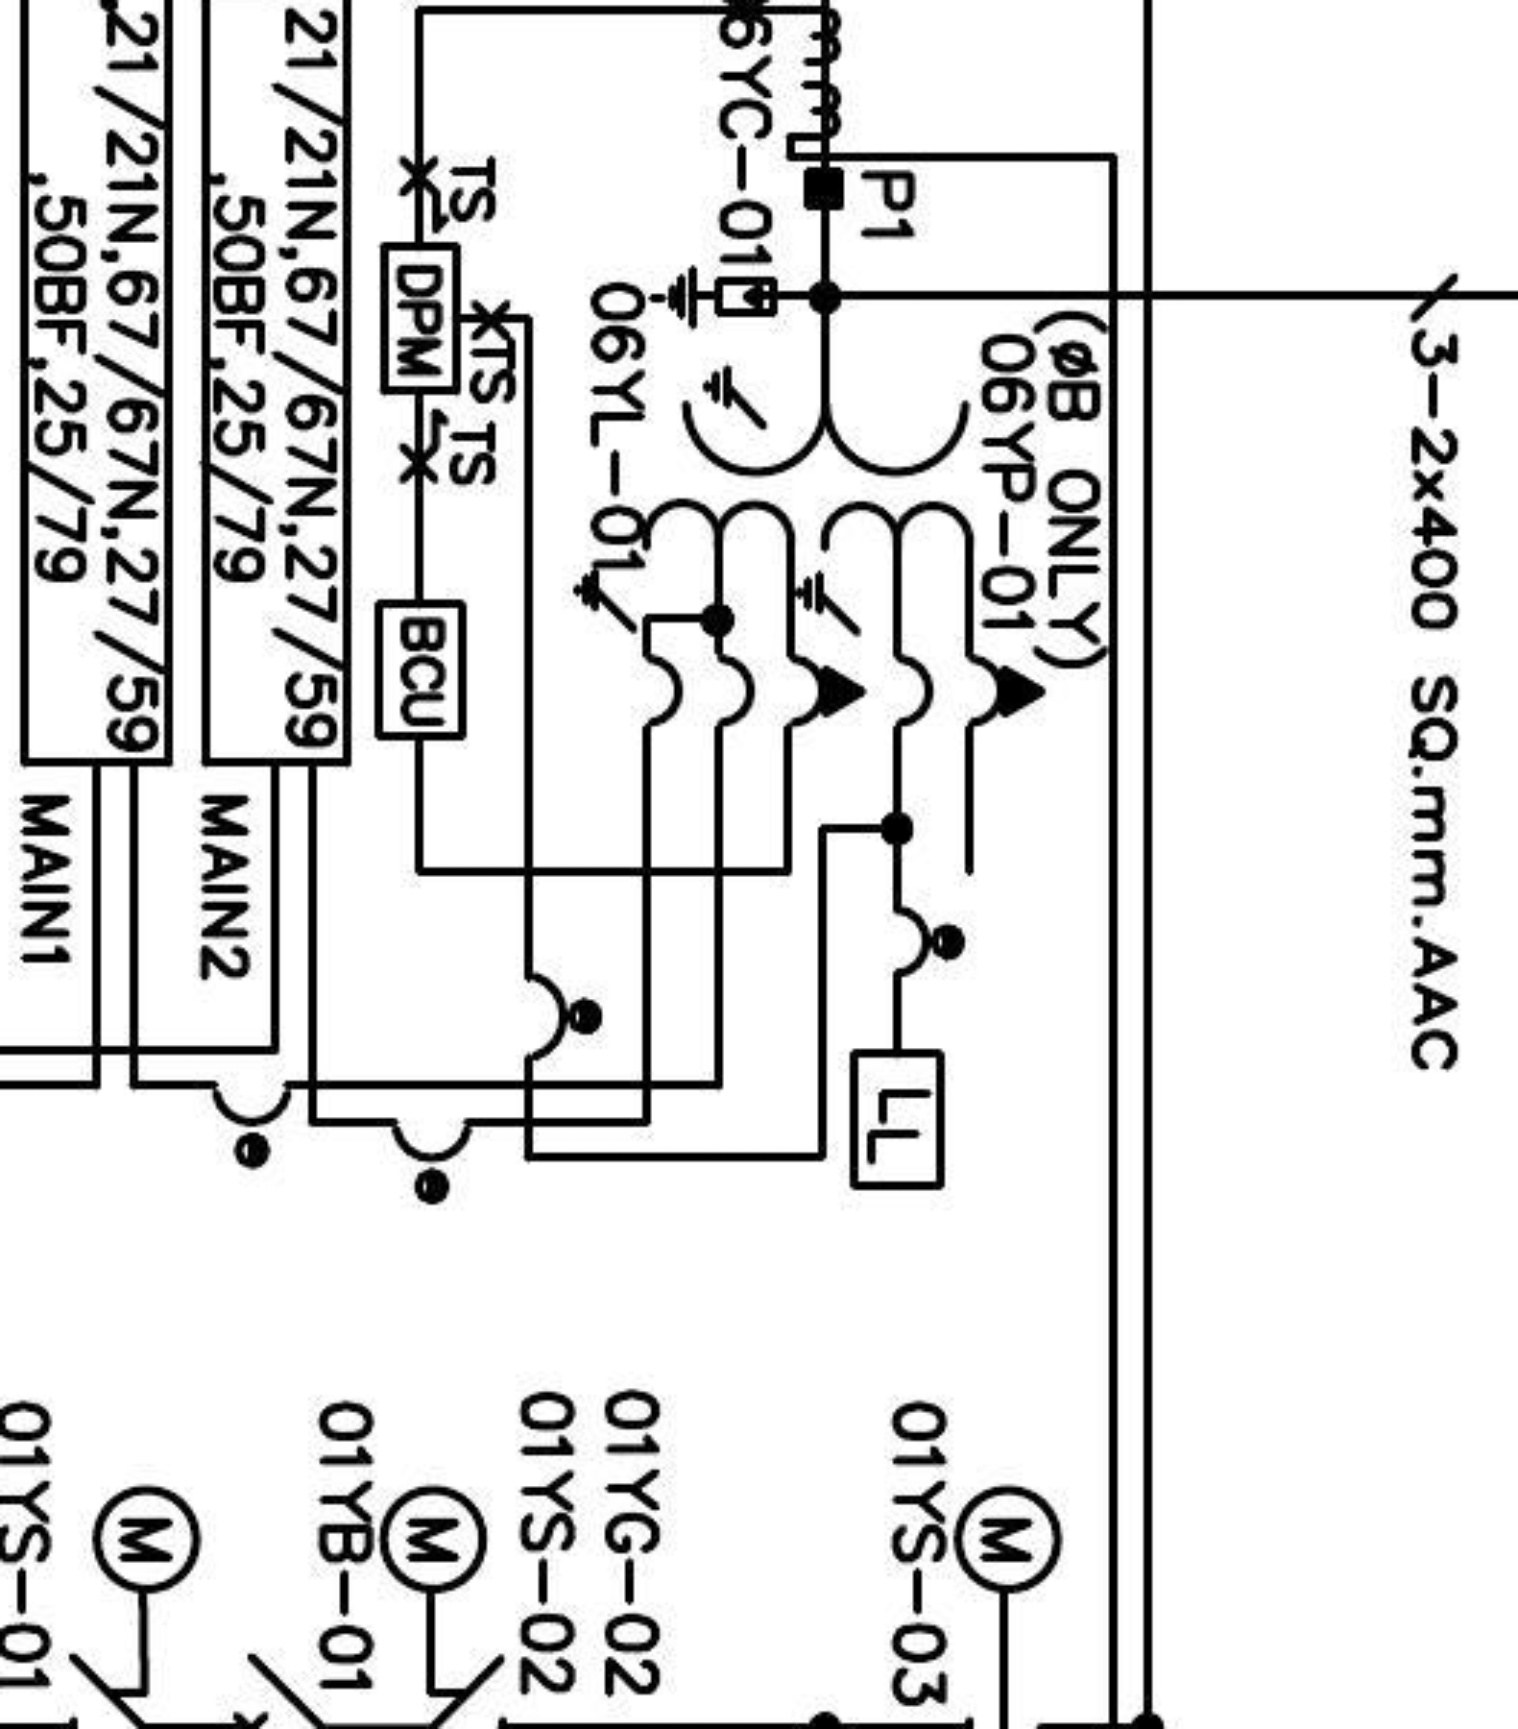115_la: (647, 263, 778, 332)
115_vt_1p: (571, 362, 1047, 732)
BCU: (372, 597, 468, 742)
DPM: (378, 241, 462, 395)
LL: (849, 1048, 946, 1191)
